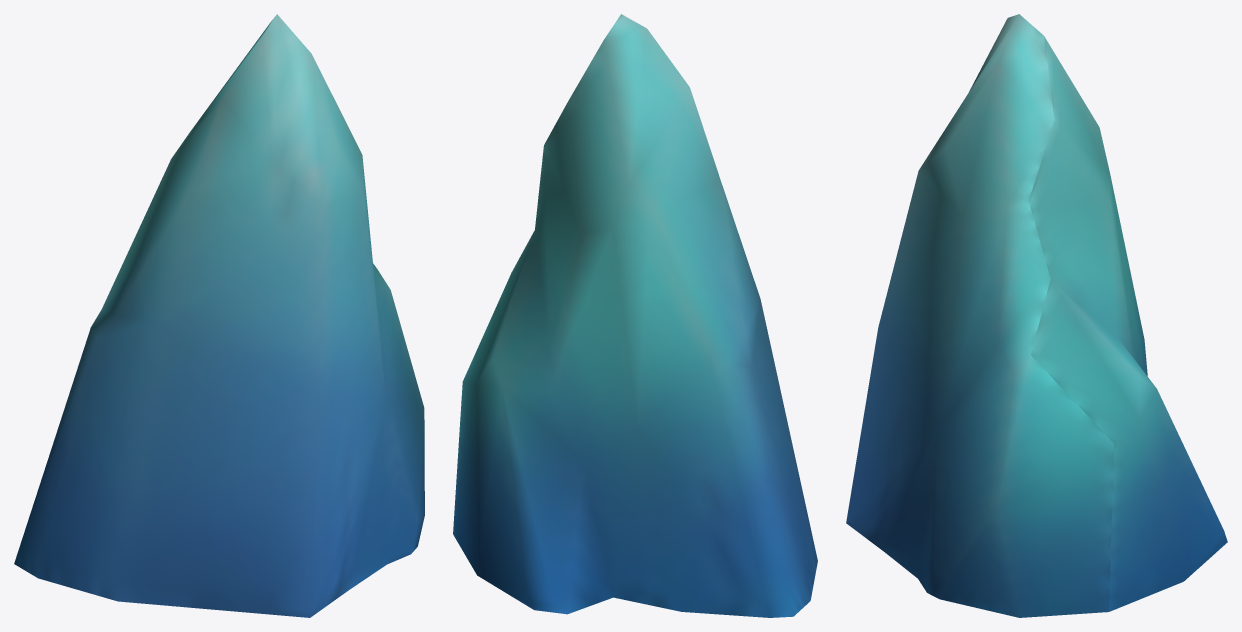
Rendered from IceSpike.fbx.
3 renders of one model, left to right at view 1: azimuth 30°, elevation 25°; view 2: azimuth 150°, elevation 25°; view 3: azimuth 270°, elevation 25°, orthographic. The views are drawn at different scales.
Visible parts, largest first — view 1: IceSpike; view 2: IceSpike; view 3: IceSpike.
Part boxes in pixels (x1,y1,x2,y2): IceSpike: [14, 14, 424, 617]; IceSpike: [453, 14, 817, 617]; IceSpike: [846, 14, 1227, 617].
Bounding box in the file's own units: 51.2 × 72.14 × 46.63.
